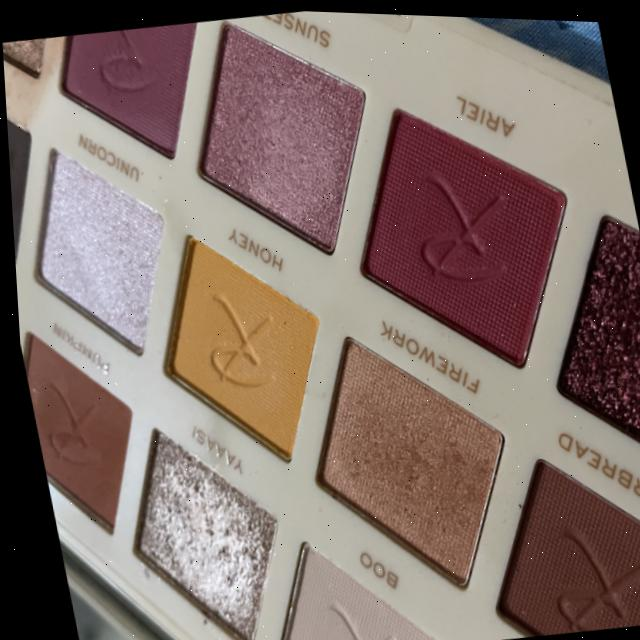eye shade: (320, 73, 598, 388), (272, 303, 535, 615), (154, 4, 400, 275), (127, 213, 350, 487), (6, 126, 193, 382), (97, 405, 289, 640), (506, 193, 640, 524), (452, 427, 640, 640), (15, 314, 157, 553), (37, 14, 231, 172), (231, 508, 446, 640)
